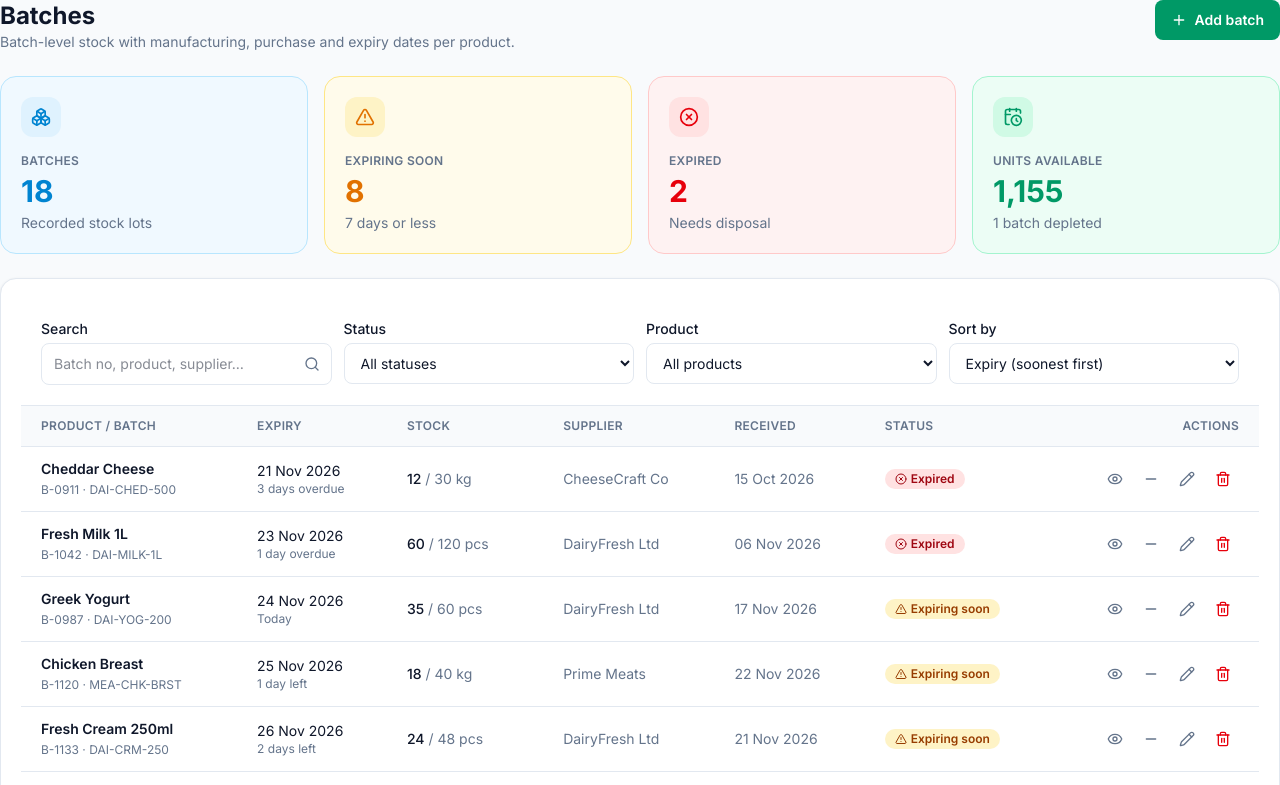
BatchesPage › filters batches by search term
Type "B-1042" into the field labelled "Search" at (186, 364), box [41,343,332,385]
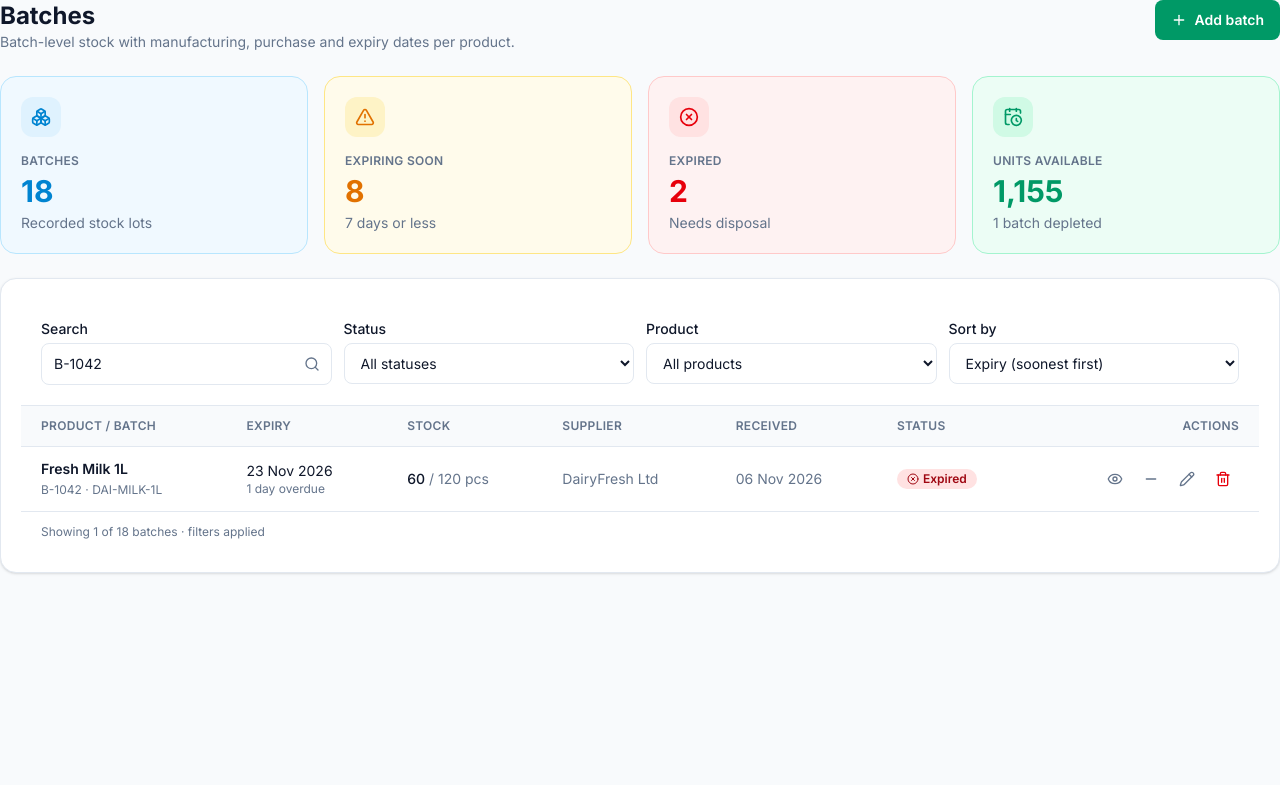
Check: the button "Fresh Milk 1L" is shown, box [41,459,128,479]
Check: the text "Showing 1 of 18 batches · filters applied" is shown, box [21,511,1259,552]
